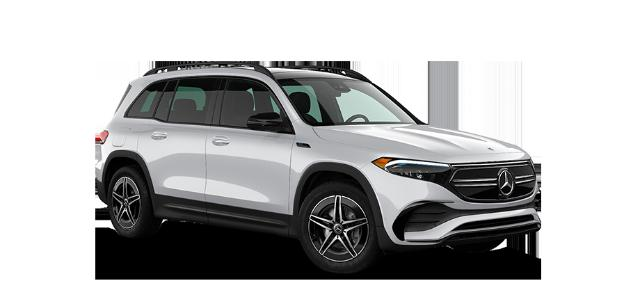benz: (95, 59, 541, 273)
